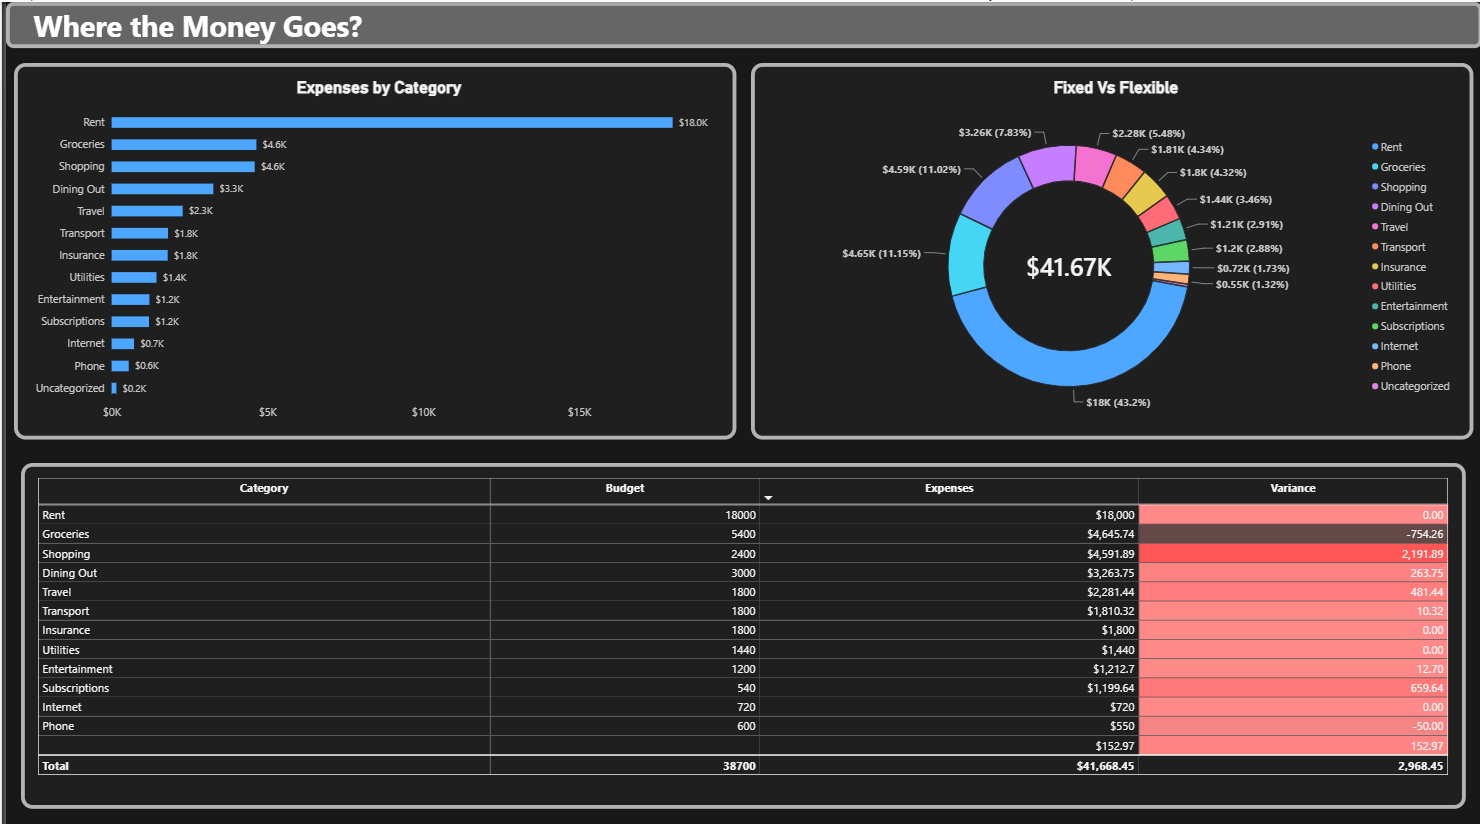

Layout of this report page (visuals, bound fields, positions):
{"tool":"powerbi","page":{"name":"Money goes","canvas":[1920,1080],"ordinal":1},"visuals":[{"type":"textbox","box":[0,0,1920.6,60],"z":0},{"type":"barChart","fields":{"Category":["Clean_Transactions.Category"],"Y":["Clean_Transactions.Expenses"]},"box":[10,80,940,490],"z":1000},{"type":"donutChart","title":"Fixed Vs Flexible","fields":{"Category":["Clean_Transactions.Category"],"Y":["Clean_Transactions.Expenses"]},"box":[970,80,940,490],"z":2000},{"type":"tableEx","fields":{"Values":["Categories.Category","Clean_Transactions.Budget","Clean_Transactions.Expenses","Clean_Transactions.Variance"]},"box":[20,600,1880,450],"z":3000}]}

Visuals, with their boxes in screenshot pixels (x1, y1, x2, y2), scaled from the page's 1920x1080 canvas onto the 1480x824 screenshot:
textbox: <bbox>0, 0, 1479, 46</bbox>
barChart - Clean_Transactions.Category x Clean_Transactions.Expenses: <bbox>8, 61, 732, 435</bbox>
"Fixed Vs Flexible" donutChart: <bbox>748, 61, 1472, 435</bbox>
tableEx - Categories.Category x Clean_Transactions.Budget: <bbox>15, 458, 1465, 801</bbox>
